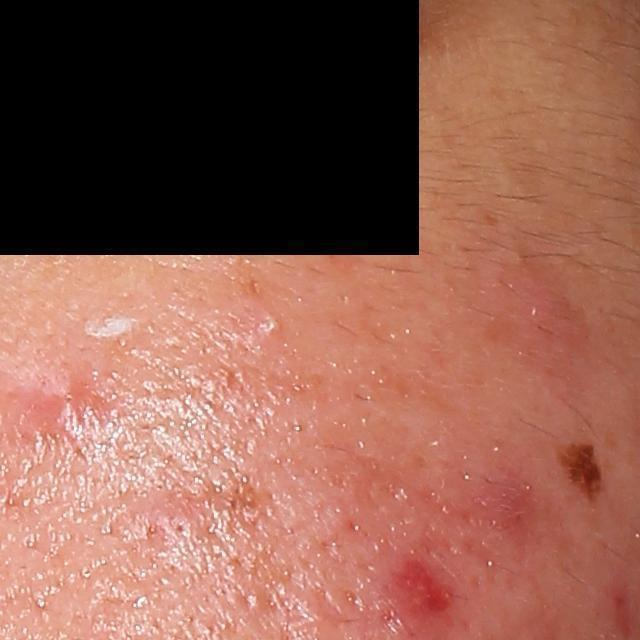nevus: (549, 442, 608, 505)
papule: (372, 558, 456, 638), (112, 484, 199, 543), (27, 374, 93, 432), (487, 478, 531, 531)
